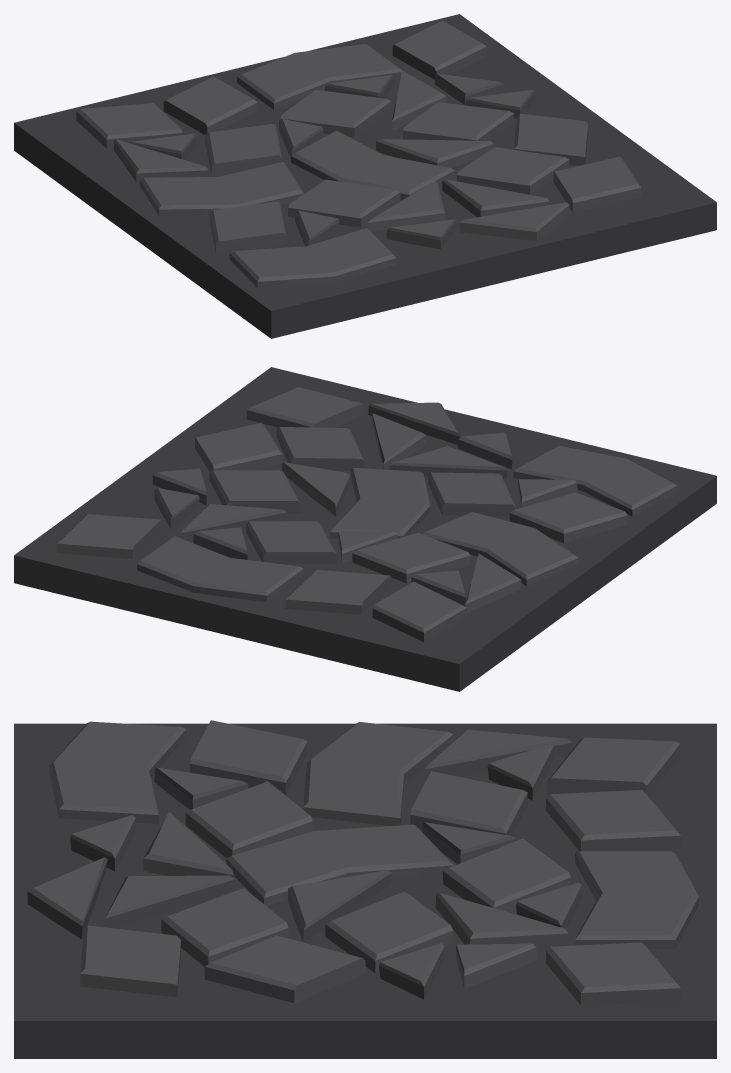
The model's file is Piso de escombros nuevo.fbx.
3 renders of one model, top to bottom at view 1: azimuth 30°, elevation 25°; view 2: azimuth 150°, elevation 25°; view 3: azimuth 270°, elevation 25°, orthographic. The views are drawn at different scales.
Visible parts, largest first — view 1: pCube130; view 2: pCube130; view 3: pCube130.
Part boxes in pixels (<box>): pCube130: <box>14,14,716,338</box>; pCube130: <box>14,367,716,691</box>; pCube130: <box>14,720,716,1058</box>.
Bounding box in the file's own units: 2.99 × 0.2566 × 2.99.
